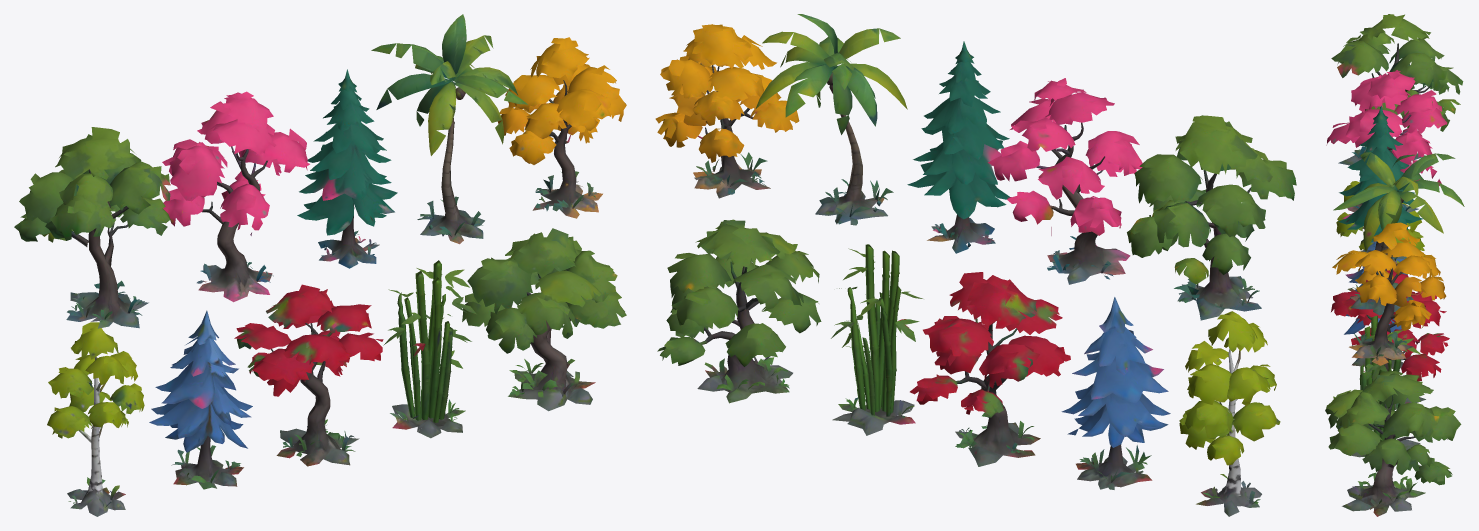
Rendered from trees.glb.
3 renders of one model, left to right at view 1: azimuth 30°, elevation 25°; view 2: azimuth 150°, elevation 25°; view 3: azimuth 270°, elevation 25°, orthographic. The views are drawn at different scales.
Visible parts, largest first — view 1: b36c4207_e37d_4fd1_92e6_1cf663a57f09; view 2: b36c4207_e37d_4fd1_92e6_1cf663a57f09; view 3: b36c4207_e37d_4fd1_92e6_1cf663a57f09.
Boxes of the visible parts, x1,y1,x2,y2 form: b36c4207_e37d_4fd1_92e6_1cf663a57f09: (14,14,626,516); b36c4207_e37d_4fd1_92e6_1cf663a57f09: (655,14,1296,516); b36c4207_e37d_4fd1_92e6_1cf663a57f09: (1325,14,1464,516).
Size of the model in its own units: 0.9995 by 0.6313 by 0.2515.
1 material, 1 textured.
